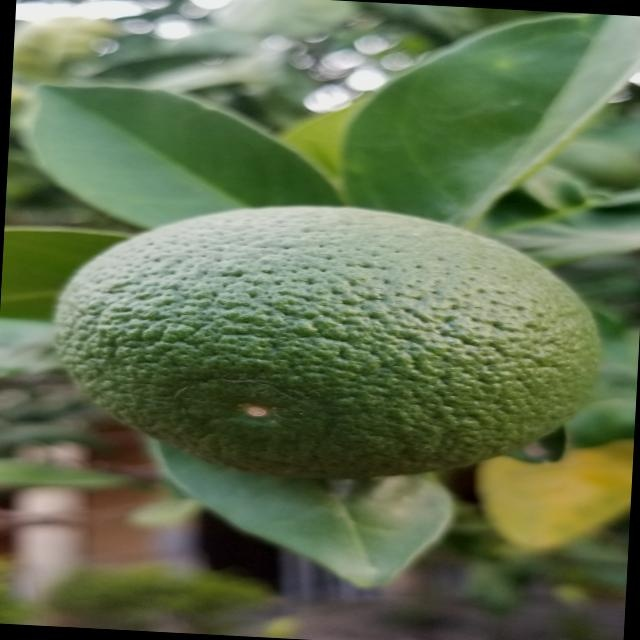agrume: (34, 175, 623, 497)
